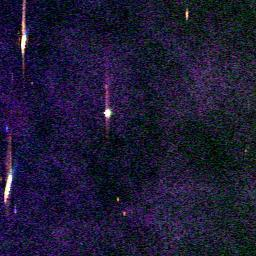Ship: (1, 169, 17, 206), (17, 32, 30, 54), (180, 3, 192, 23), (101, 108, 113, 120), (114, 194, 120, 205)
